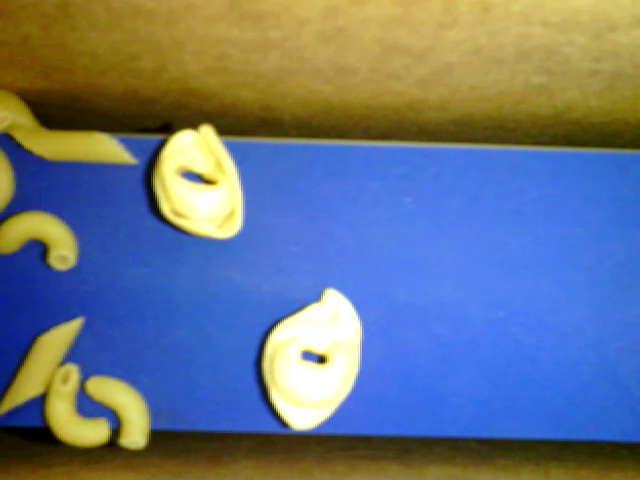elbow: (44, 361, 114, 451), (2, 205, 92, 274), (86, 365, 153, 456)
penne: (3, 310, 89, 415), (6, 126, 145, 164)
shell: (1, 86, 49, 135)
tortellini: (253, 280, 372, 434), (150, 117, 248, 245)
